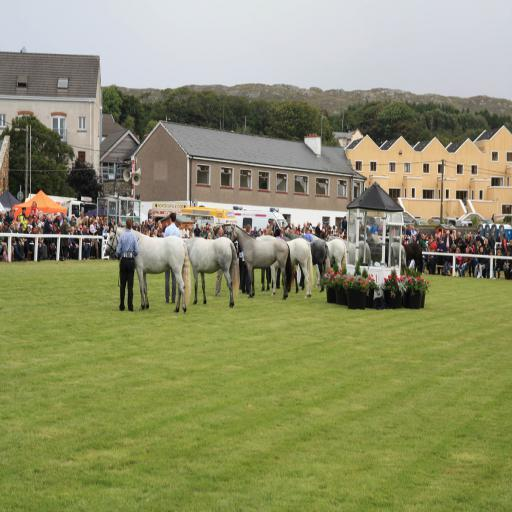horse: (103, 220, 424, 316)
